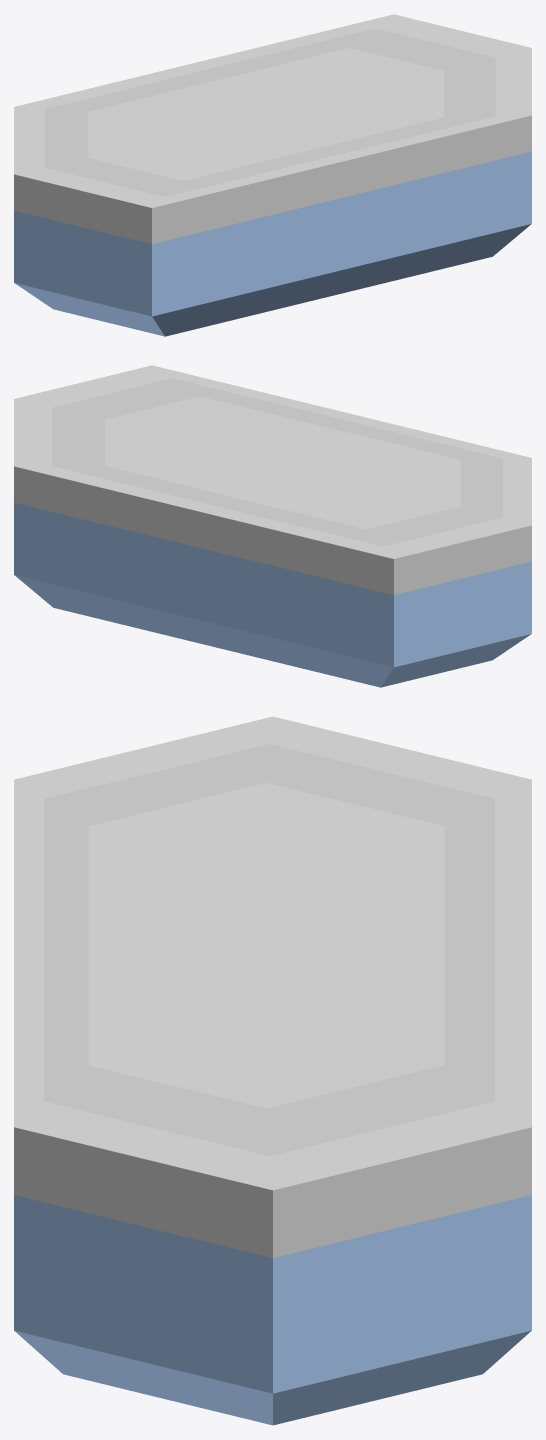
Rendered from CannedMackerel.fbx.
3 renders of one model, top to bottom at view 1: azimuth 30°, elevation 25°; view 2: azimuth 150°, elevation 25°; view 3: azimuth 270°, elevation 25°, orthographic. The views are drawn at different scales.
Parts seen in each view (by area): view 1: CannedMackerel; view 2: CannedMackerel; view 3: CannedMackerel.
Boxes of the visible parts, box(x1,y1,x2,y2) form: CannedMackerel: box(14, 14, 531, 336); CannedMackerel: box(14, 365, 531, 687); CannedMackerel: box(14, 716, 531, 1425).
Size of the model in its own units: 0.15 by 0.04 by 0.0693.
